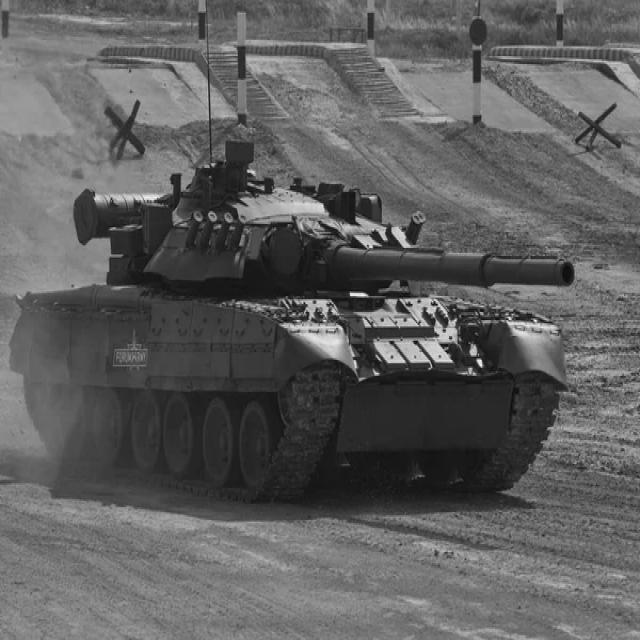Tank: (8, 116, 581, 484)
